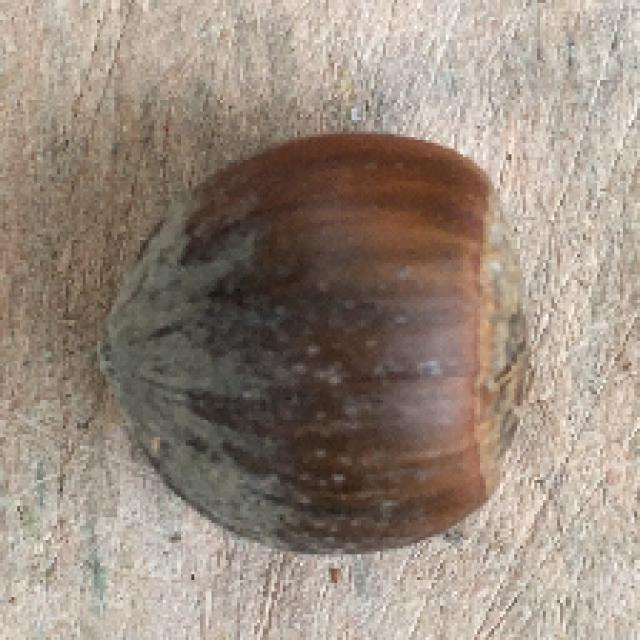qualityHazelnut: (94, 125, 544, 560)
